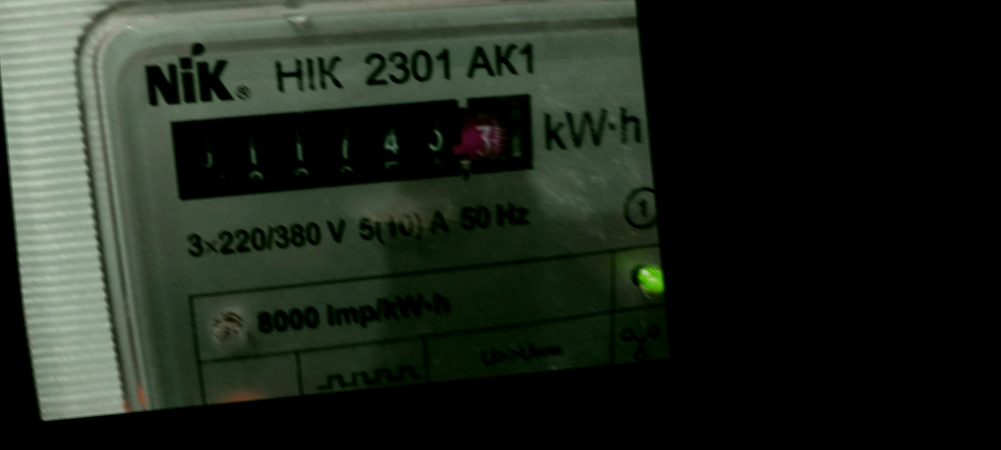0: (190, 131, 216, 172), (240, 125, 262, 168)
1: (287, 122, 307, 164)
3: (421, 111, 445, 156), (470, 119, 494, 159)
4: (377, 115, 400, 157)
7: (329, 117, 357, 163)
screen: (149, 72, 545, 216)
